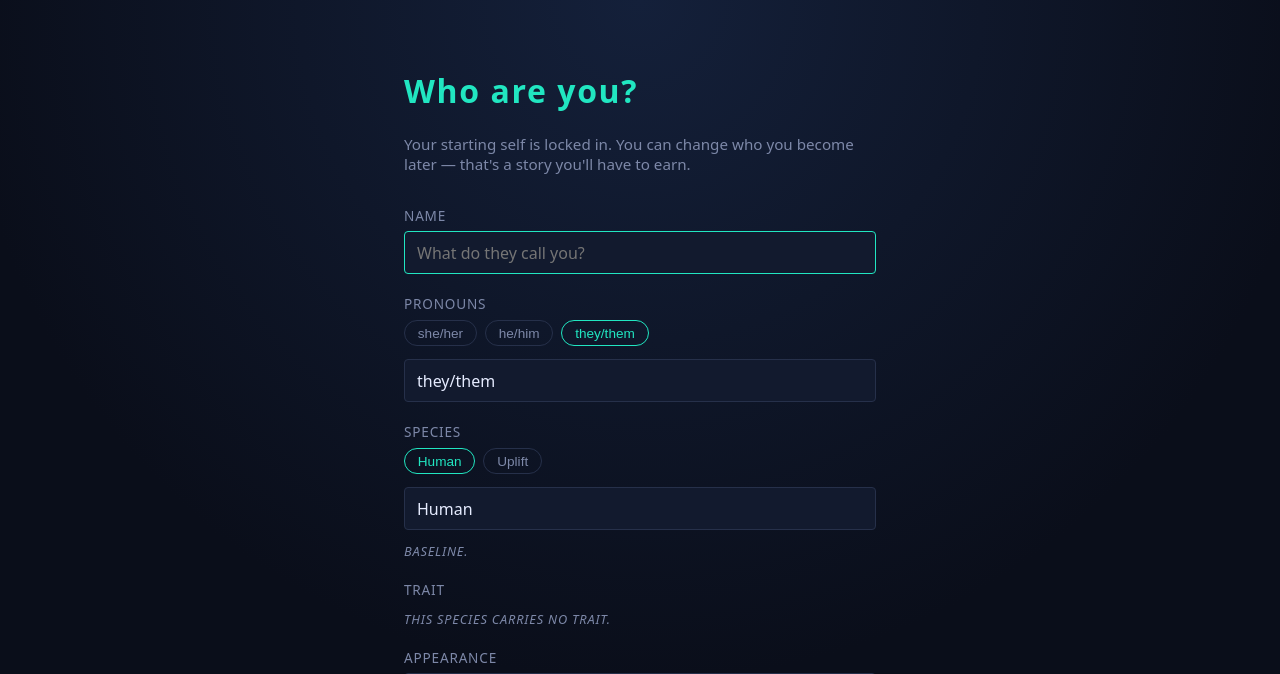
Scenario: CreationScreen › offers species suggestions but accepts free text
Later steps or results of the test are not shown.
// Registry chips: clicking one fills the field and shows its blurb.
Click the button "Uplift" at (513, 461), box [483,448,542,474]
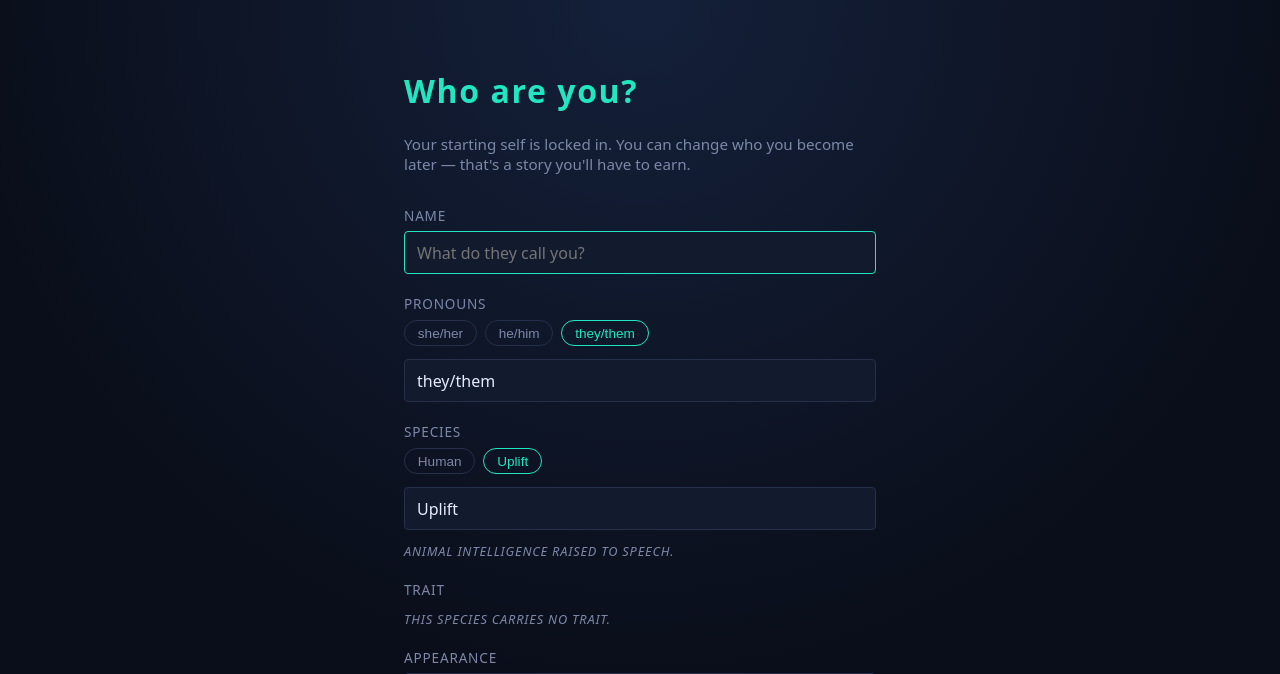
Expected: the 2nd field showing "Uplift" is enabled, [404,487,876,530]
Expected: the text "Animal intelligence raised to speech." is shown, [404,542,674,560]
